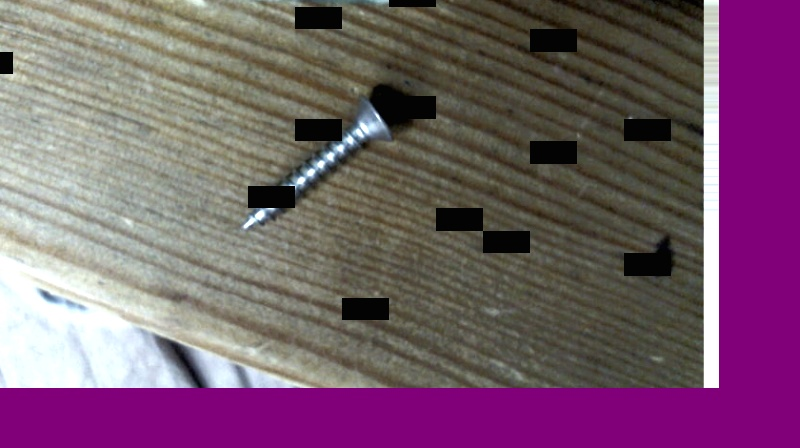S001: (237, 89, 399, 235)
